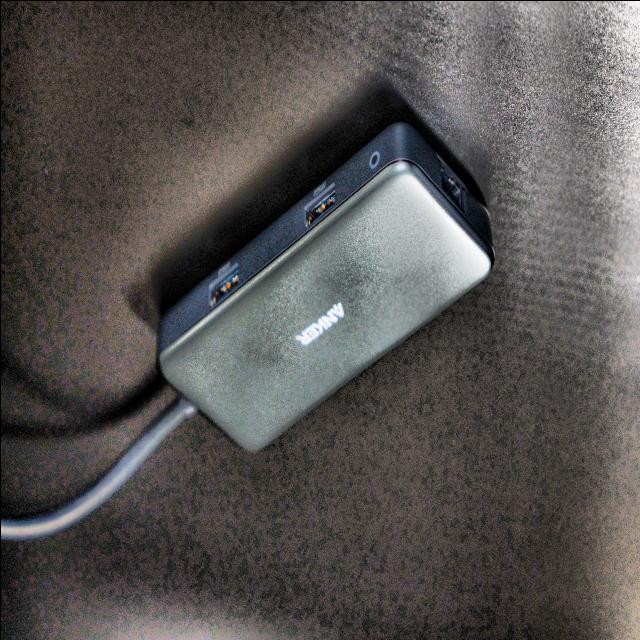HUB: (0, 121, 493, 536)
